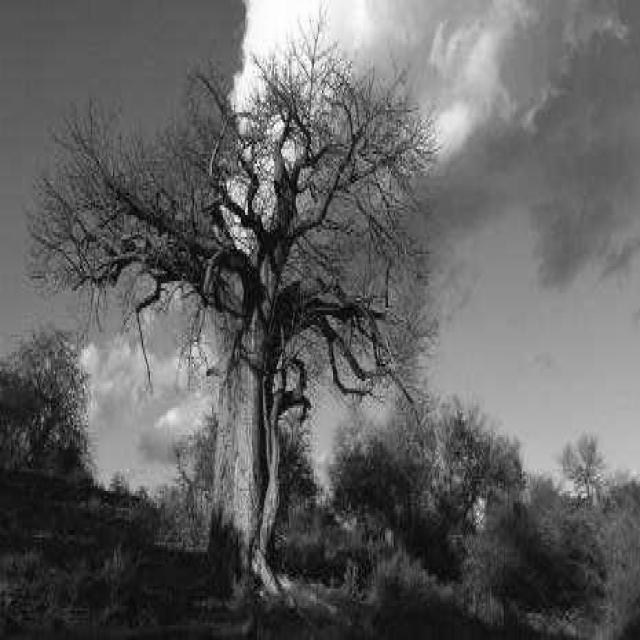Tree: (30, 20, 434, 596)
